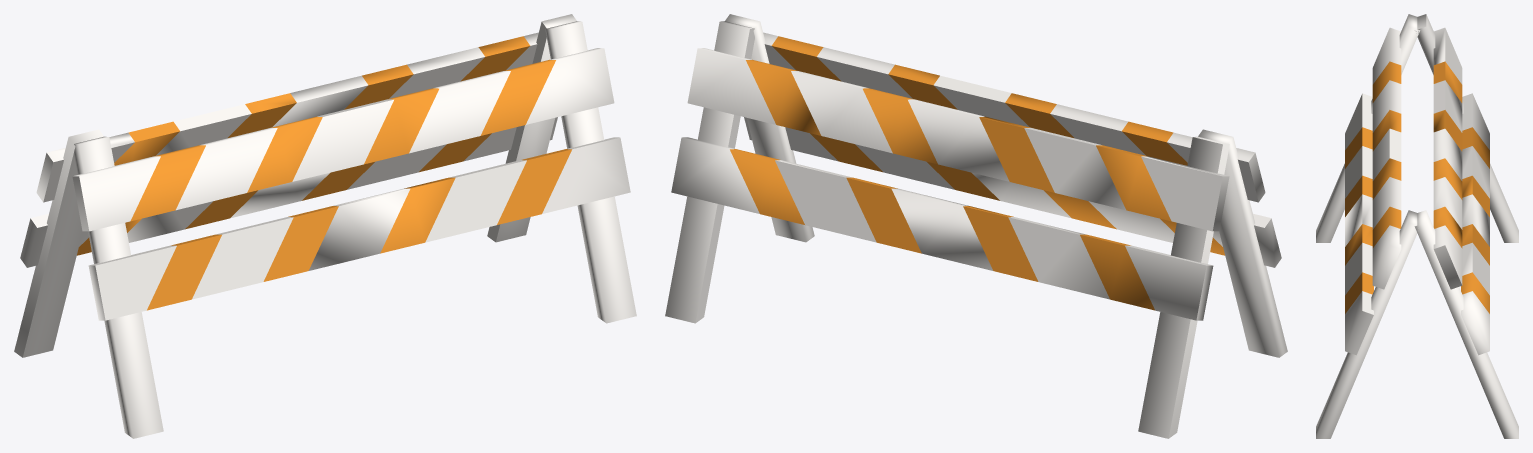
File: blockade_model.FBX
3 renders of one model, left to right at view 1: azimuth 30°, elevation 25°; view 2: azimuth 150°, elevation 25°; view 3: azimuth 270°, elevation 25°, orthographic. The views are drawn at different scales.
Parts seen in each view (by area): view 1: Blockade_Model; view 2: Blockade_Model; view 3: Blockade_Model.
Part boxes in pixels (left/top/right/bottom): Blockade_Model: left=14, top=14, right=636, bottom=438; Blockade_Model: left=665, top=14, right=1287, bottom=438; Blockade_Model: left=1316, top=14, right=1518, bottom=438.
Bounding box in the file's own units: 48.33 × 22.39 × 19.02.
